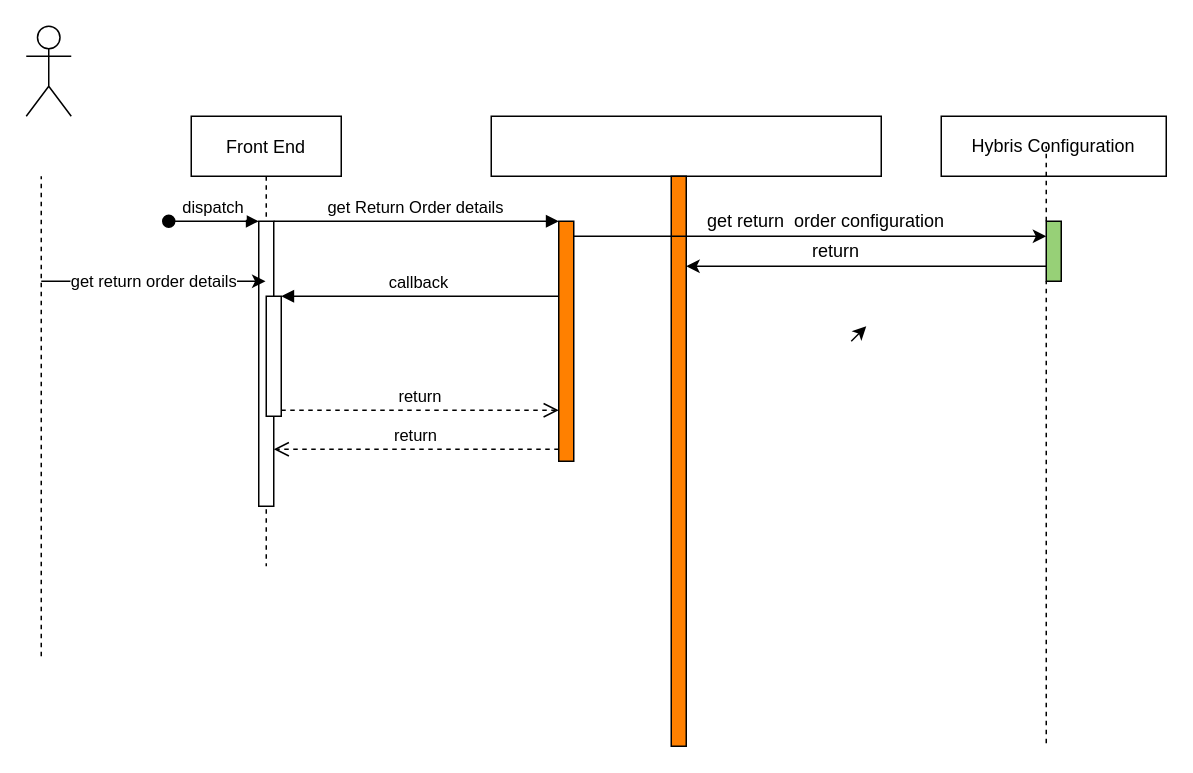
Some shapes in this 1193 by 773 pixel diagram are drawn without their labels. Here are the shapes that lost their labels. From the top down, the box of each, then its label:
(25, 25, 71, 116): Actor
(490, 115, 881, 746): Estore Common
